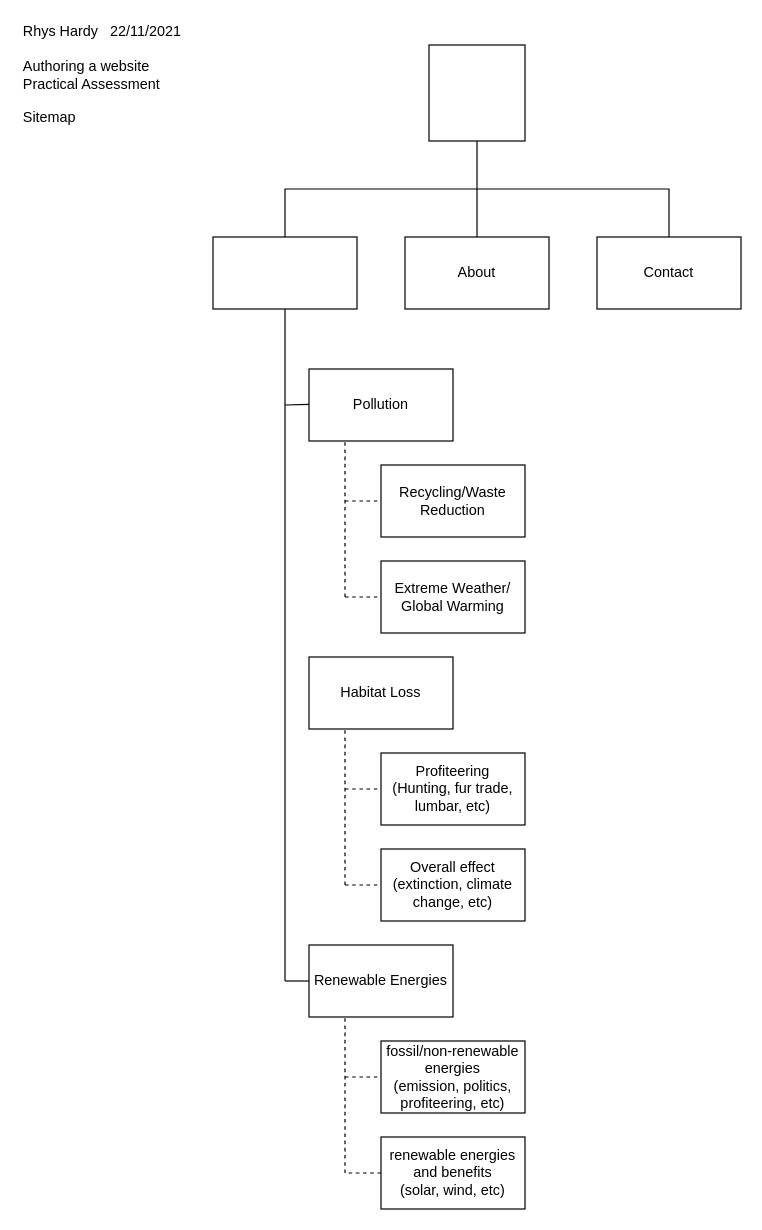
Image size: 762x1230. Some labels were removed from this diagram. The shapes that lost their labels are listed below. From the top down, each one's centre as x and y in pixels, then its label:
pixel 476 92: Home/Index (Introduction)
pixel 284 272: Main navigation
